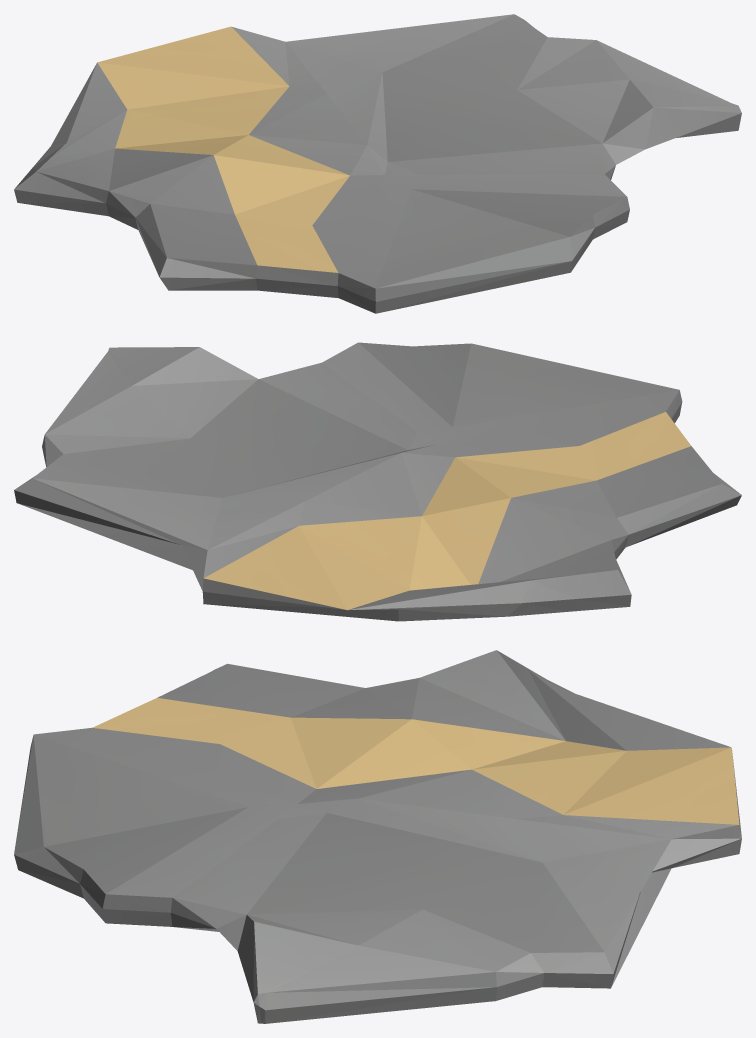
File: road_chunk_2.obj
The picture shows the model from 3 angles, top to bottom: view 1: azimuth 30°, elevation 25°; view 2: azimuth 150°, elevation 25°; view 3: azimuth 270°, elevation 25°; orthographic projection. The views are drawn at different scales.
Visible parts, largest first — view 1: road_chunk_2_Mesh; view 2: road_chunk_2_Mesh; view 3: road_chunk_2_Mesh.
Boxes of the visible parts, x1,y1,x2,y2 form: road_chunk_2_Mesh: (14, 14, 741, 313); road_chunk_2_Mesh: (14, 342, 741, 621); road_chunk_2_Mesh: (14, 650, 741, 1023).
Size of the model in its own units: 1.27 by 0.0891 by 1.11.
